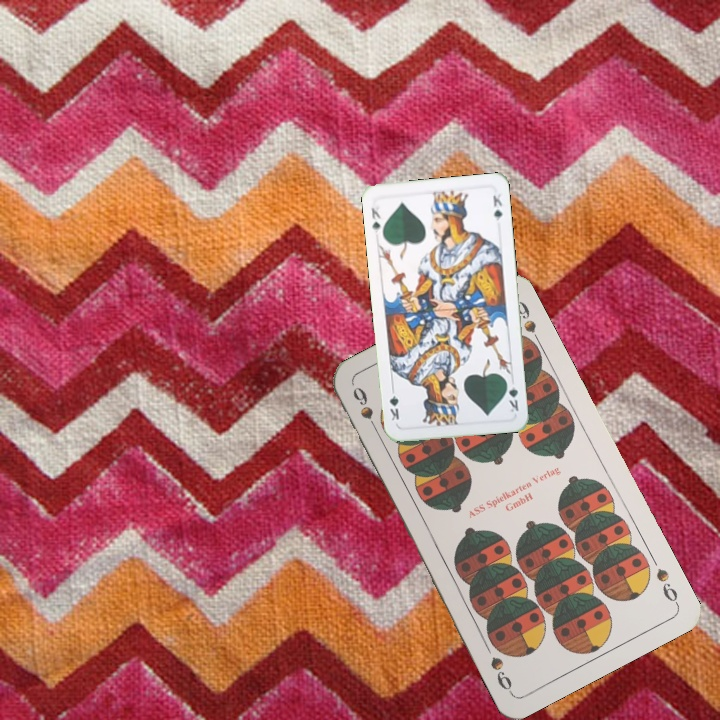GK: (502, 376, 521, 415), (367, 203, 383, 236)
S9: (348, 382, 383, 438), (652, 564, 681, 608)
